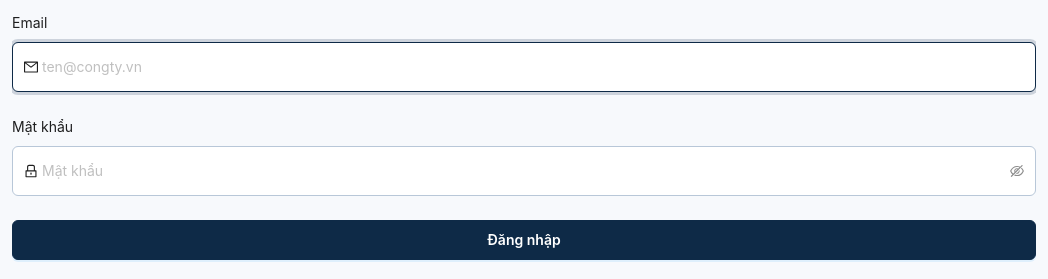
it: LoginForm › rejects a malformed email address
This screenshot has width=1048, height=279.
Type "not-an-email" into the field labelled "Email" at [533, 67], box 42,47 -> 1024,87
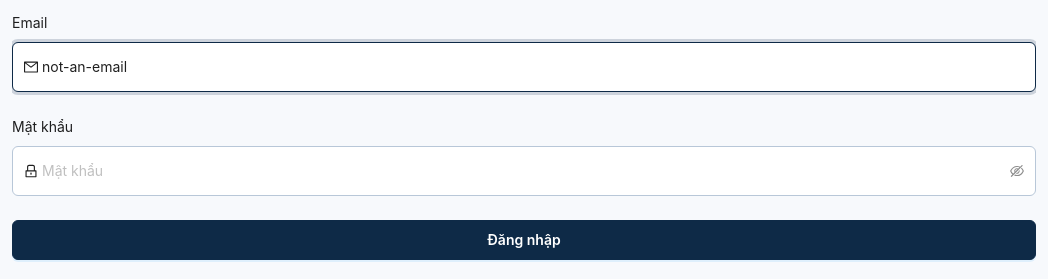
Type "secret123" into the password field labelled "Mật khẩu" at [524, 171], box 42,151 -> 1006,191
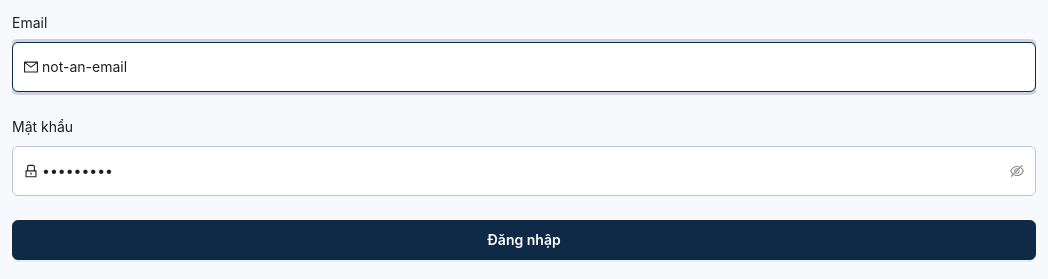
Click the button "Đăng nhập" at [524, 240], box 12,220 -> 1036,260
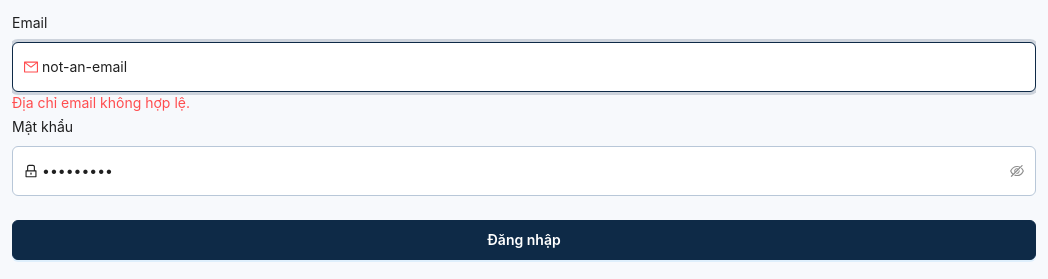
Expected: the text "Địa chỉ email không hợp lệ." is shown, 12,94 -> 190,111
